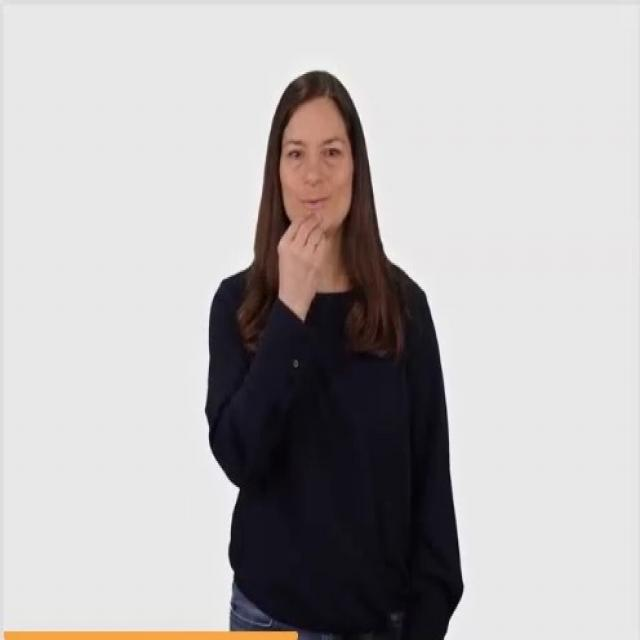Food: (207, 69, 472, 640)
